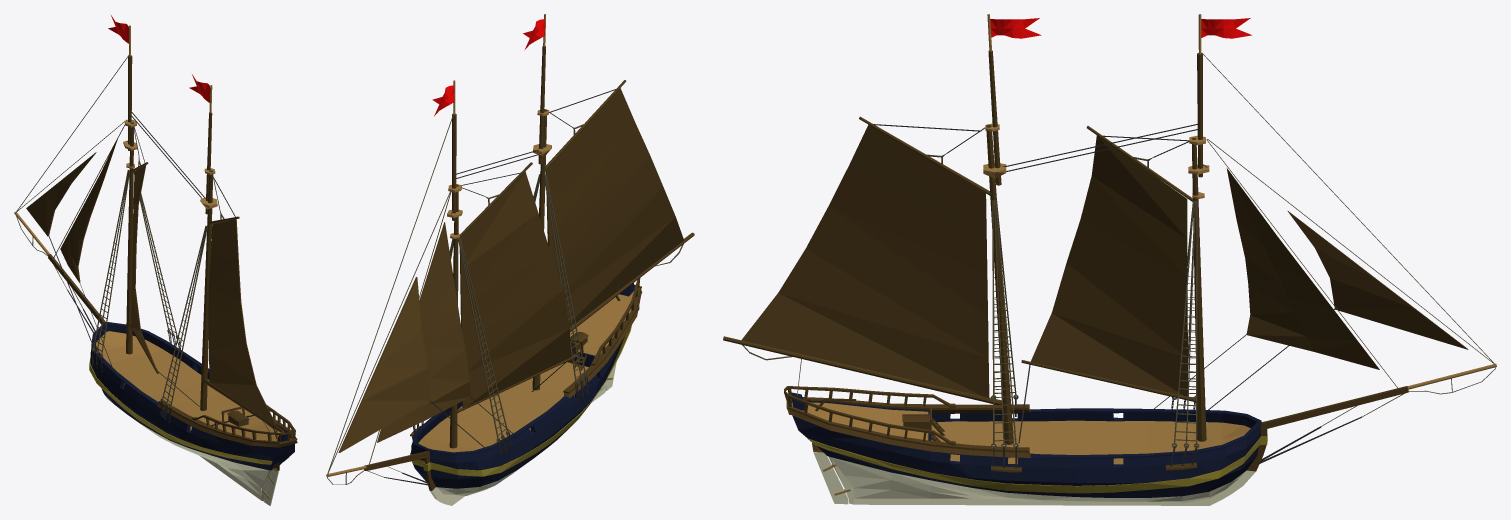
The model's file is SailShipExport.fbx.
3 renders of one model, left to right at view 1: azimuth 30°, elevation 25°; view 2: azimuth 150°, elevation 25°; view 3: azimuth 270°, elevation 25°, orthographic. The views are drawn at different scales.
Parts seen in each view (by area): view 1: Sail Ship; view 2: Sail Ship; view 3: Sail Ship.
Boxes of the visible parts, <box> form: Sail Ship: <box>14,14,297,505</box>; Sail Ship: <box>326,14,694,505</box>; Sail Ship: <box>723,14,1496,505</box>.
Bounding box in the file's own units: 689 × 2749 × 3927.
